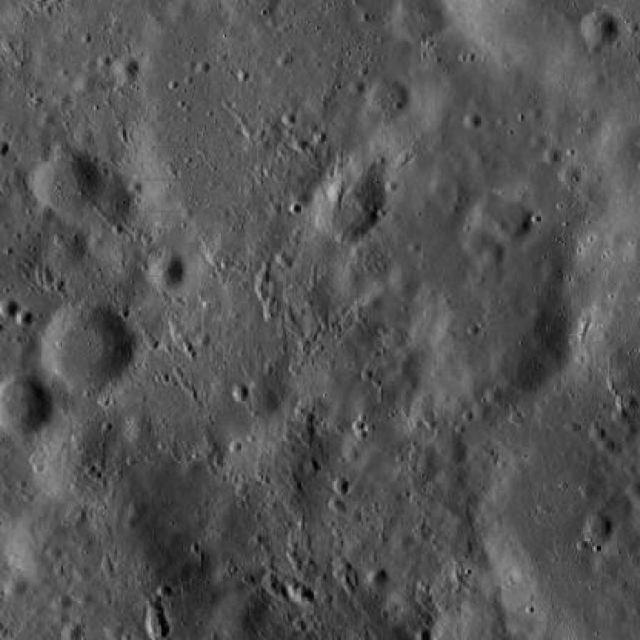crater: (412, 252, 570, 410), (36, 410, 136, 510), (5, 494, 100, 588), (41, 301, 134, 394), (309, 162, 388, 241), (32, 148, 102, 218), (0, 374, 54, 436), (84, 184, 138, 236), (390, 0, 447, 46), (364, 78, 410, 122), (490, 200, 533, 243), (582, 11, 622, 51), (386, 263, 424, 302), (148, 252, 187, 290), (56, 230, 90, 264), (246, 386, 280, 420), (460, 222, 492, 255), (583, 514, 612, 544), (123, 413, 152, 442), (594, 595, 624, 623), (112, 56, 140, 84), (358, 106, 384, 132), (444, 440, 468, 463), (391, 528, 414, 552), (482, 244, 504, 267), (360, 293, 382, 315), (5, 574, 27, 596), (180, 456, 202, 478), (148, 620, 170, 640), (128, 498, 148, 518), (292, 586, 312, 606), (558, 167, 578, 186), (104, 621, 124, 640), (62, 623, 84, 640), (463, 112, 482, 131), (348, 76, 367, 95), (0, 297, 18, 317), (15, 308, 34, 326), (146, 614, 165, 632), (262, 573, 280, 592), (368, 568, 387, 586), (430, 180, 448, 198), (232, 384, 250, 401), (57, 592, 74, 610), (624, 480, 640, 499), (544, 149, 561, 166), (37, 113, 54, 130), (588, 426, 606, 442), (612, 408, 630, 424), (597, 438, 614, 454), (622, 393, 638, 410), (278, 251, 294, 267), (332, 478, 348, 494), (58, 92, 74, 108), (147, 602, 162, 618)
